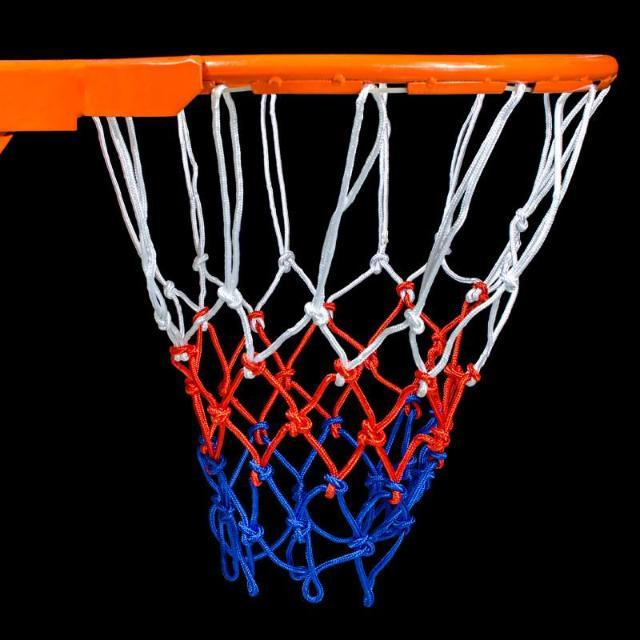rim: (84, 52, 616, 606)
